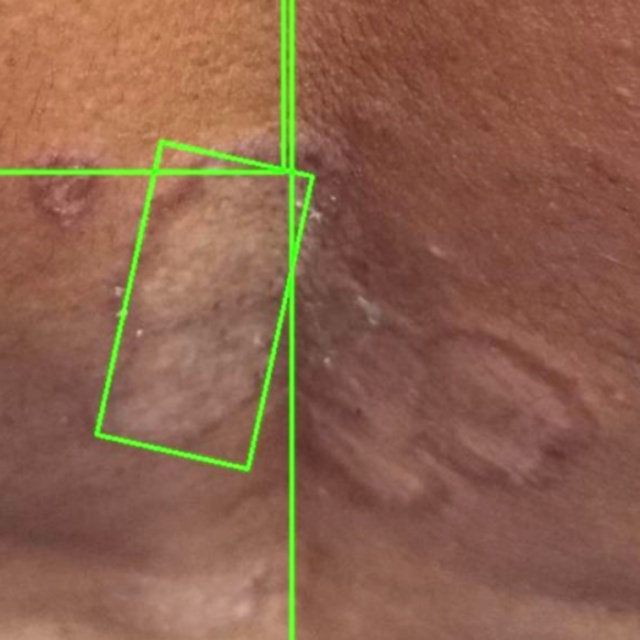Tinea Corporis: (292, 0, 639, 639), (95, 143, 312, 469), (0, 0, 283, 172)
